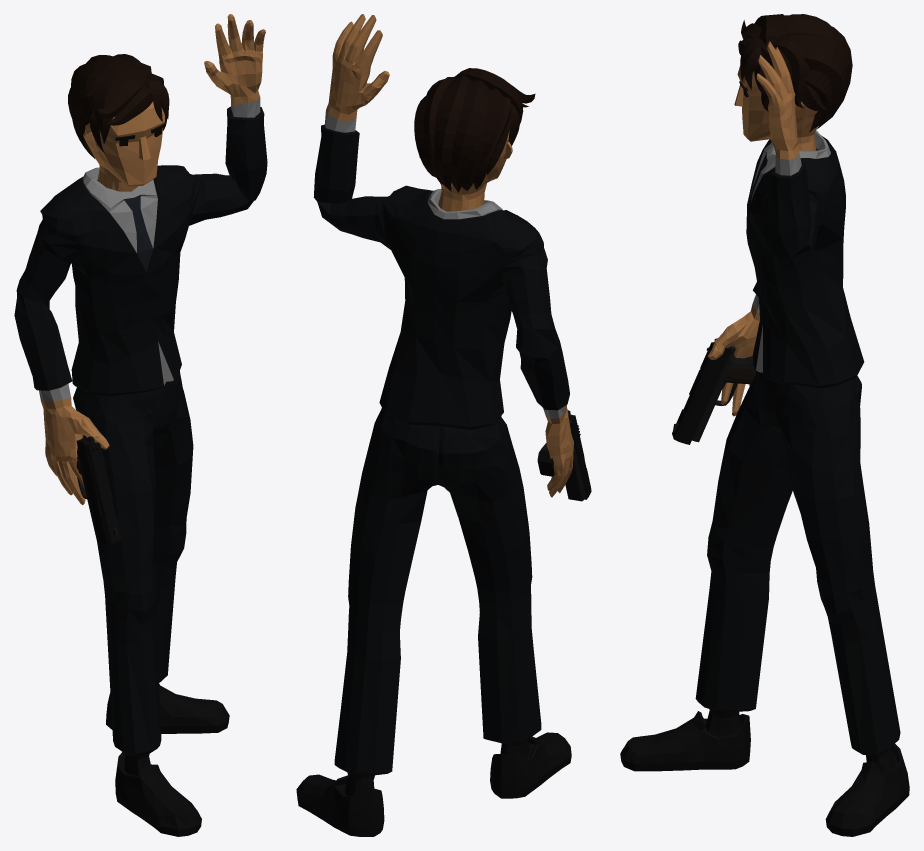
The model's file is suit.obj.
The picture shows the model from 3 angles, left to right: view 1: azimuth 30°, elevation 25°; view 2: azimuth 150°, elevation 25°; view 3: azimuth 270°, elevation 25°; orthographic projection. The views are drawn at different scales.
Visible parts, largest first — view 1: part_5, part_12, part_7, part_3, part_10, part_8, part_6, part_2, part_4, part_1; view 2: part_12, part_5, part_10, part_7, part_3, part_8, part_6, part_2, part_1; view 3: part_12, part_5, part_7, part_10, part_3, part_8, part_2, part_6, part_1.
Part boxes in pixels (x1,y1,x2,y2): part_5: (14, 106, 267, 396); part_12: (73, 371, 193, 755); part_7: (106, 683, 229, 836); part_3: (41, 14, 265, 504); part_10: (68, 54, 169, 158); part_8: (83, 101, 164, 191); part_6: (39, 97, 260, 401); part_2: (76, 437, 121, 544); part_4: (124, 195, 153, 271); part_1: (73, 436, 117, 539); part_12: (334, 408, 541, 775); part_5: (313, 124, 569, 429); part_10: (414, 68, 535, 192); part_7: (296, 732, 571, 836); part_3: (326, 14, 573, 497); part_8: (438, 130, 512, 211); part_6: (324, 110, 566, 418); part_2: (537, 414, 591, 499); part_1: (537, 410, 585, 501); part_12: (695, 370, 900, 755); part_5: (746, 136, 864, 388); part_7: (620, 709, 909, 836); part_10: (738, 14, 852, 132); part_3: (707, 41, 799, 416); part_8: (734, 66, 817, 153); part_2: (672, 342, 731, 444); part_6: (750, 130, 830, 372); part_1: (673, 338, 753, 442).
Size of the model in its own units: 0.648 by 1.91 by 0.6433.
